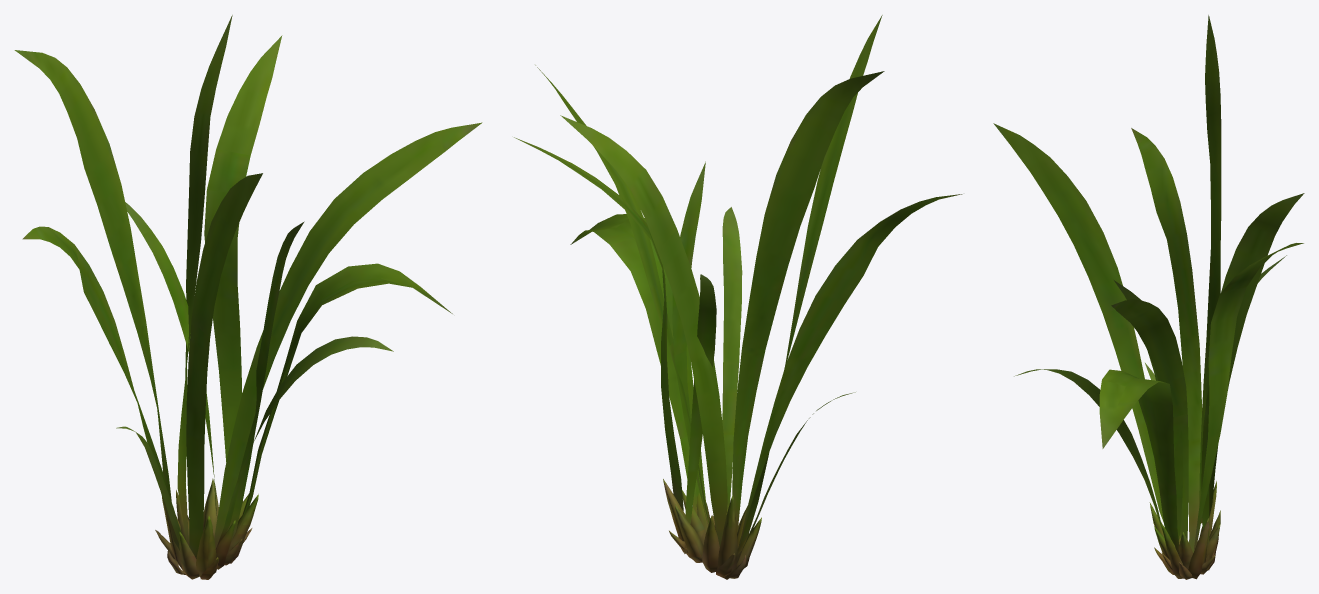
The model's file is 04_Rumput_Tinggi.glb.
3 views of the same model, side by side, from view 1: azimuth 30°, elevation 25°; view 2: azimuth 150°, elevation 25°; view 3: azimuth 270°, elevation 25° (orthographic). The views are drawn at different scales.
Visible parts, largest first — view 1: 04_Rumput_Tinggi; view 2: 04_Rumput_Tinggi; view 3: 04_Rumput_Tinggi.
Boxes of the visible parts, x1,y1,x2,y2 form: 04_Rumput_Tinggi: [14, 15, 482, 579]; 04_Rumput_Tinggi: [514, 15, 962, 579]; 04_Rumput_Tinggi: [993, 15, 1304, 579].
Size of the model in its own units: 0.7566 by 0.9 by 0.5211.
1 material, 1 textured.
